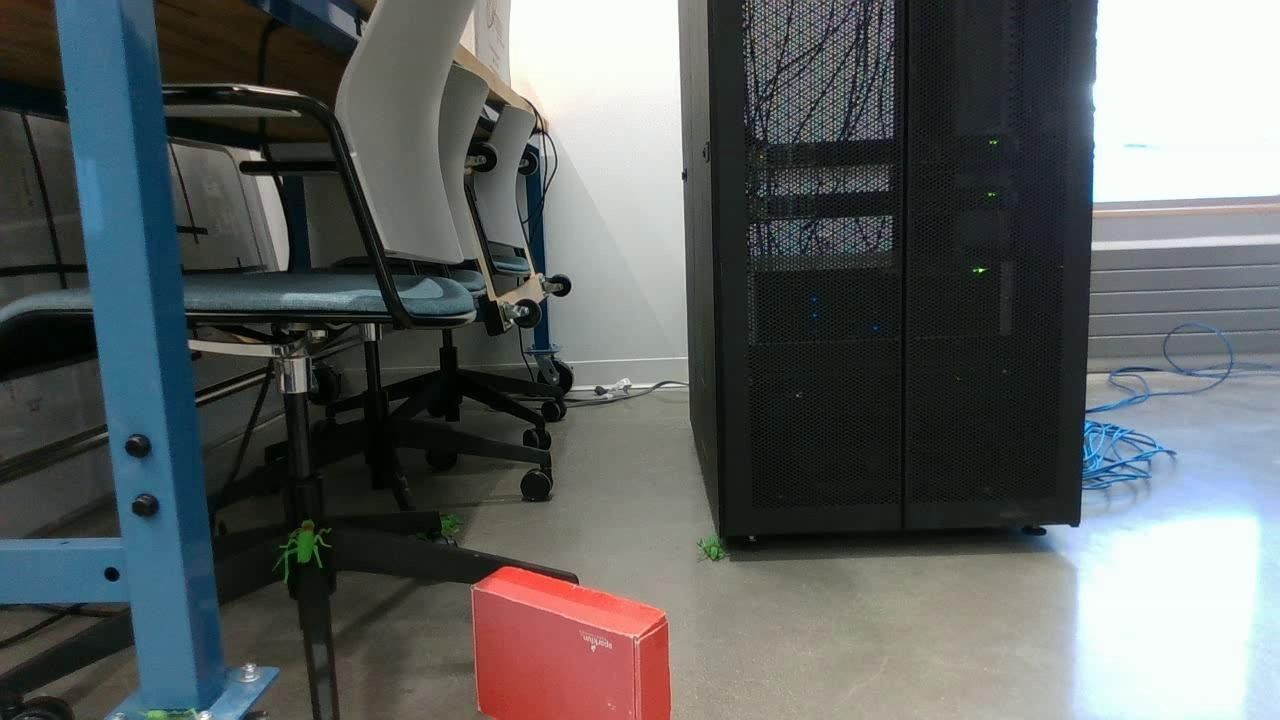grasshopper: (275, 520, 334, 581), (413, 513, 462, 534), (696, 538, 731, 561)
